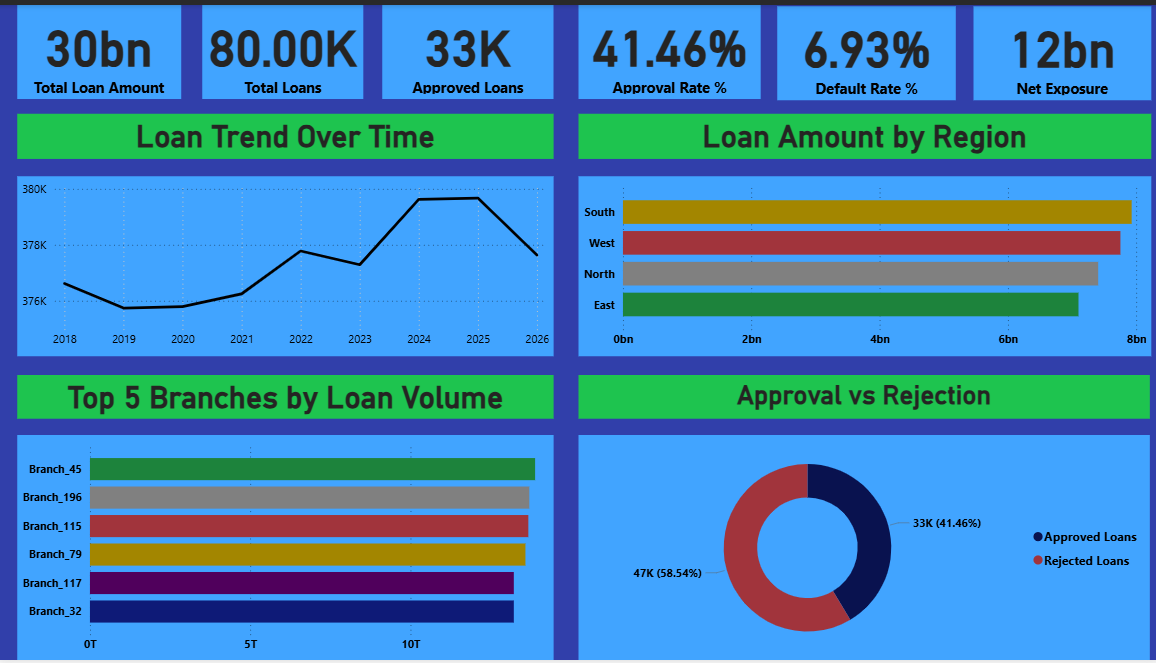

This screenshot's page, from the dashboard's own definition file:
{"tool":"powerbi","page":{"name":"Executive Overview Dashboard","canvas":[1280,720],"ordinal":0},"visuals":[{"type":"card","fields":{"Values":["Sum(Fact_Loans.Loan_Amount)"]},"box":[23.3,0,179.8,102.9],"z":0},{"type":"card","fields":{"Values":["CountNonNull(Fact_Loans.Loan_ID)"]},"box":[226.4,0,177,102.9],"z":1000},{"type":"card","fields":{"Values":["Fact_Loans.Approved Loans"]},"box":[424,0,188,102.9],"z":2000},{"type":"card","fields":{"Values":["Fact_Loans.Approval Rate %"]},"box":[639.5,0,200.3,102.9],"z":3000},{"type":"card","fields":{"Values":["Fact_Loans.Default Rate %"]},"box":[857.6,1.4,196.2,102.9],"z":4000},{"type":"card","fields":{"Values":["Fact_Loans.Net Exposure"]},"box":[1073.1,1.4,194.9,102.9],"z":5000},{"type":"textbox","box":[23.3,119.4,588.7,49.4],"z":6000},{"type":"lineChart","fields":{"Category":["Fact_Loans.Application_Date.Variation.Date Hierarchy.Year","Fact_Loans.Application_Date.Variation.Date Hierarchy.Quarter"],"Y":["Avg(Fact_Loans.Loan_Amount)"]},"box":[23.3,188,588.7,197.6],"z":7000},{"type":"barChart","fields":{"Category":["Dim_Branches.Region"],"Y":["Sum(Fact_Loans.Loan_Amount)"]},"box":[639.5,188,628.5,197.6],"z":8000},{"type":"textbox","box":[639.5,119.4,628.5,49.4],"z":9000},{"type":"clusteredBarChart","fields":{"Category":["Dim_Branches.Branch_Name"],"Y":["Sum(Fact_Loans.Loan Volume)"]},"box":[23.3,472,588.7,248.4],"z":10000},{"type":"textbox","box":[23.3,406.2,588.7,48],"z":11000},{"type":"textbox","box":[639.5,406.2,627.1,48],"z":12000},{"type":"donutChart","fields":{"Y":["Fact_Loans.Approved Loans","Fact_Loans.Rejected Loans"]},"box":[639,472,627,248],"z":13000}]}

Visuals, with their boxes in screenshot pixels (x1, y1, x2, y2), scaled from the page's 1280x720 canvas onto the 1156x663 screenshot:
card - Sum(Fact_Loans.Loan_Amount): {"left": 21, "top": 0, "right": 183, "bottom": 95}
card - CountNonNull(Fact_Loans.Loan_ID): {"left": 204, "top": 0, "right": 364, "bottom": 95}
card - Fact_Loans.Approved Loans: {"left": 383, "top": 0, "right": 553, "bottom": 95}
card - Fact_Loans.Approval Rate %: {"left": 578, "top": 0, "right": 758, "bottom": 95}
card - Fact_Loans.Default Rate %: {"left": 775, "top": 1, "right": 952, "bottom": 96}
card - Fact_Loans.Net Exposure: {"left": 969, "top": 1, "right": 1145, "bottom": 96}
textbox: {"left": 21, "top": 110, "right": 553, "bottom": 155}
lineChart - Fact_Loans.Application_Date.Variation.Date Hierarchy.Year x Fact_Loans.Application_Date.Variation.Date Hierarchy.Quarter: {"left": 21, "top": 173, "right": 553, "bottom": 355}
barChart - Dim_Branches.Region x Sum(Fact_Loans.Loan_Amount): {"left": 578, "top": 173, "right": 1145, "bottom": 355}
textbox: {"left": 578, "top": 110, "right": 1145, "bottom": 155}
clusteredBarChart - Dim_Branches.Branch_Name x Sum(Fact_Loans.Loan Volume): {"left": 21, "top": 435, "right": 553, "bottom": 662}
textbox: {"left": 21, "top": 374, "right": 553, "bottom": 418}
textbox: {"left": 578, "top": 374, "right": 1144, "bottom": 418}
donutChart - Fact_Loans.Approved Loans x Fact_Loans.Rejected Loans: {"left": 577, "top": 435, "right": 1143, "bottom": 662}
